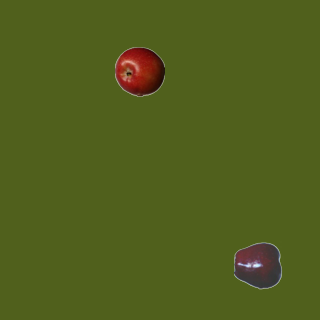Apple Braeburn: (114, 46, 164, 96)
Apple Red Delicious: (233, 240, 283, 290)
